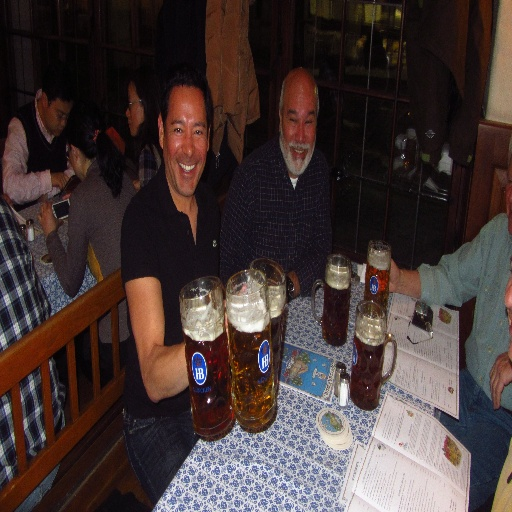hand: (488, 346, 511, 406), (224, 286, 246, 347), (36, 199, 64, 240), (369, 257, 399, 294), (53, 175, 69, 194)
